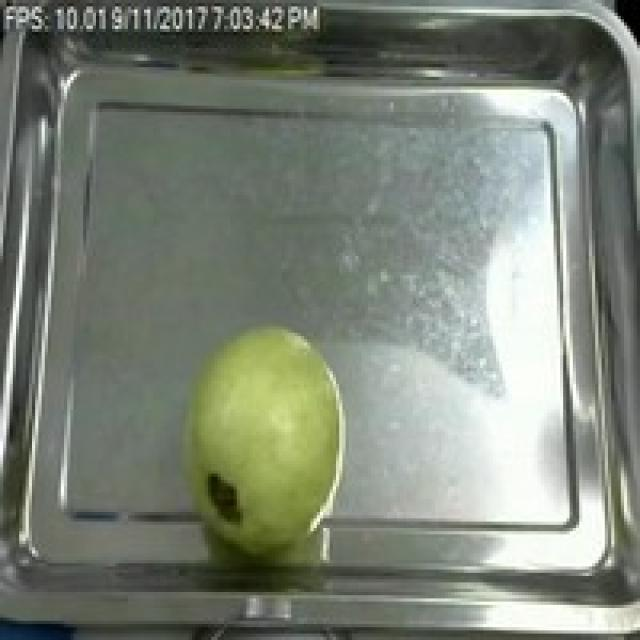Fruit: (164, 310, 358, 560)
